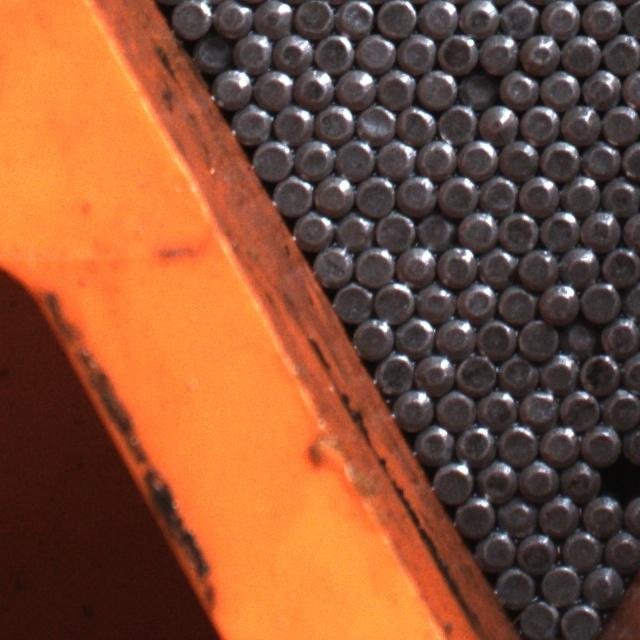tool: (514, 597, 556, 640), (250, 137, 292, 179), (453, 492, 495, 534), (455, 419, 496, 461), (476, 315, 517, 357), (331, 279, 372, 321), (538, 561, 580, 602), (493, 565, 535, 606), (353, 244, 394, 285), (333, 135, 374, 176), (395, 171, 436, 212), (581, 490, 622, 531), (580, 421, 621, 462), (516, 456, 557, 497), (496, 421, 537, 462), (498, 209, 539, 250), (352, 314, 393, 355), (456, 206, 496, 248), (580, 278, 620, 320), (230, 102, 270, 144), (477, 30, 517, 72), (293, 135, 333, 177), (270, 174, 312, 214), (537, 492, 579, 532), (515, 529, 557, 569), (312, 171, 352, 212), (354, 173, 395, 213), (232, 29, 272, 70), (518, 31, 558, 72), (252, 66, 292, 107), (312, 30, 353, 70), (538, 421, 578, 462), (373, 207, 414, 247), (538, 280, 578, 321), (517, 383, 557, 424), (435, 385, 475, 426), (456, 136, 497, 176), (272, 29, 312, 70), (560, 30, 600, 71), (374, 279, 414, 320), (498, 136, 539, 176), (561, 526, 602, 566), (517, 316, 558, 356), (394, 241, 435, 281), (474, 456, 515, 496), (560, 457, 600, 498), (431, 458, 471, 499), (582, 559, 623, 599), (601, 242, 640, 284), (560, 601, 602, 640), (436, 173, 476, 213), (355, 29, 395, 69), (438, 31, 478, 71), (333, 208, 373, 248), (477, 172, 517, 212), (436, 244, 476, 284), (538, 206, 578, 246), (312, 243, 352, 283), (395, 30, 435, 70), (456, 278, 496, 318), (414, 349, 454, 389), (272, 101, 312, 141), (600, 31, 640, 71), (540, 137, 580, 177), (600, 102, 640, 142), (600, 314, 640, 354), (334, 64, 374, 104), (518, 102, 558, 142), (456, 350, 496, 390), (560, 100, 600, 140), (498, 351, 538, 391), (435, 312, 475, 352), (600, 173, 640, 213), (579, 204, 619, 244), (294, 65, 334, 105), (292, 208, 332, 248), (474, 528, 514, 568), (475, 383, 515, 423), (372, 350, 412, 390), (559, 374, 599, 414), (517, 172, 558, 211), (393, 384, 432, 425), (602, 384, 640, 426), (580, 136, 619, 176), (416, 134, 455, 174), (539, 67, 578, 107), (210, 67, 249, 107), (517, 246, 556, 286), (356, 100, 396, 139), (416, 67, 455, 107), (415, 209, 455, 248), (414, 278, 454, 317), (375, 136, 414, 176), (497, 281, 536, 321), (477, 244, 516, 284), (396, 314, 436, 353), (559, 240, 599, 279), (314, 100, 353, 139), (457, 68, 496, 107), (413, 423, 452, 462), (497, 495, 536, 534), (560, 171, 599, 210), (437, 101, 477, 139), (376, 67, 414, 107), (396, 102, 434, 142), (498, 67, 536, 107), (581, 66, 620, 104), (560, 317, 599, 355), (537, 350, 576, 388), (192, 33, 230, 72), (583, 345, 621, 384), (169, 0, 210, 36), (292, 0, 334, 35), (478, 100, 516, 138), (603, 527, 640, 566), (376, 0, 416, 35), (580, 0, 620, 35), (416, 0, 456, 35), (498, 0, 538, 35), (210, 0, 250, 34), (538, 0, 578, 34), (252, 0, 292, 34), (457, 0, 497, 34), (336, 0, 374, 34), (620, 350, 640, 390), (621, 138, 640, 178), (621, 67, 640, 107), (621, 424, 640, 464), (621, 277, 640, 317), (622, 206, 640, 247), (623, 493, 640, 533), (622, 0, 640, 37)
